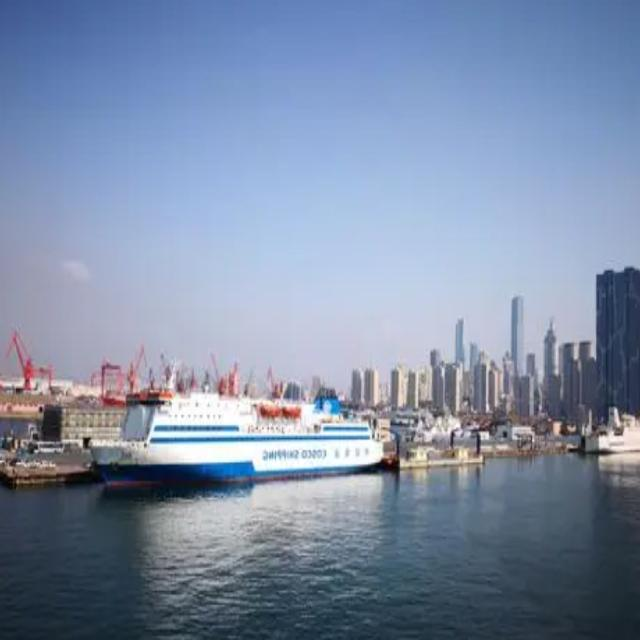cargoship: (94, 371, 393, 486)
